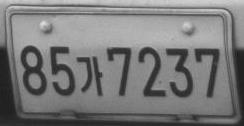2: (137, 46, 166, 97)
3: (167, 47, 194, 98)
5: (49, 46, 76, 96)
7: (106, 46, 132, 96), (194, 47, 220, 97)
8: (19, 44, 48, 96)
가: (77, 56, 104, 96)
